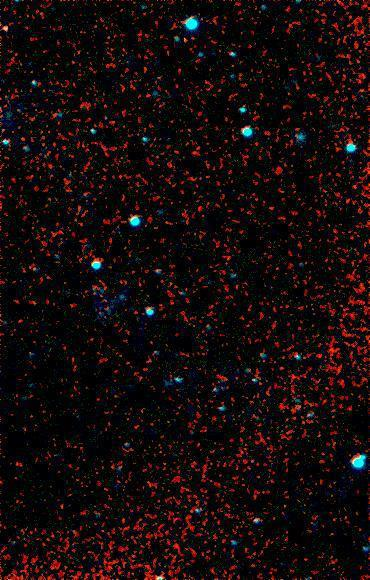star: (0, 8, 19, 38)
